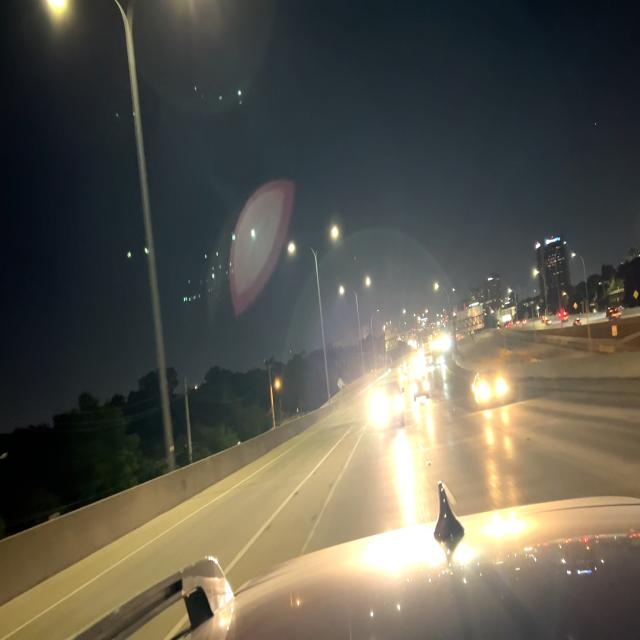back-of-sign: (455, 303, 484, 337)
